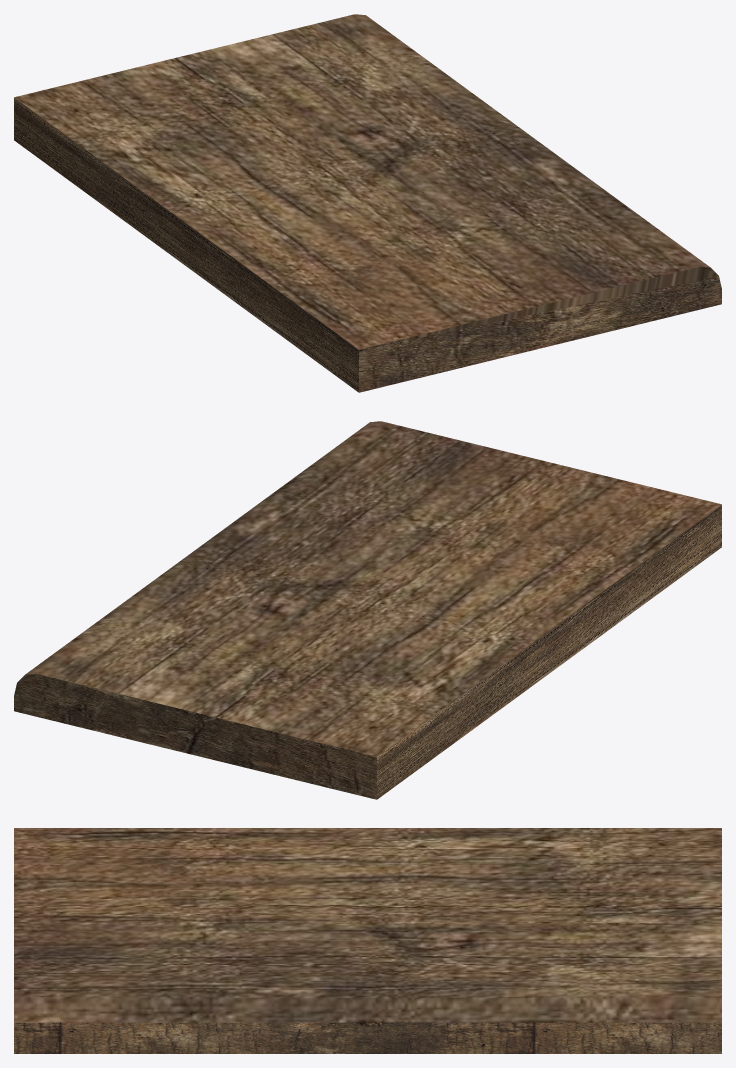
The model's file is holz.fbx.
3 renders of one model, top to bottom at view 1: azimuth 30°, elevation 25°; view 2: azimuth 150°, elevation 25°; view 3: azimuth 270°, elevation 25°, orthographic. The views are drawn at different scales.
Visible parts, largest first — view 1: pCube1; view 2: pCube1; view 3: pCube1.
Part boxes in pixels (x1=…): pCube1: x1=14, y1=14, x2=721, y2=392; pCube1: x1=14, y1=421, x2=721, y2=799; pCube1: x1=14, y1=828, x2=721, y2=1053.
Bounding box in the file's own units: 2.33 × 0.2631 × 3.83.
